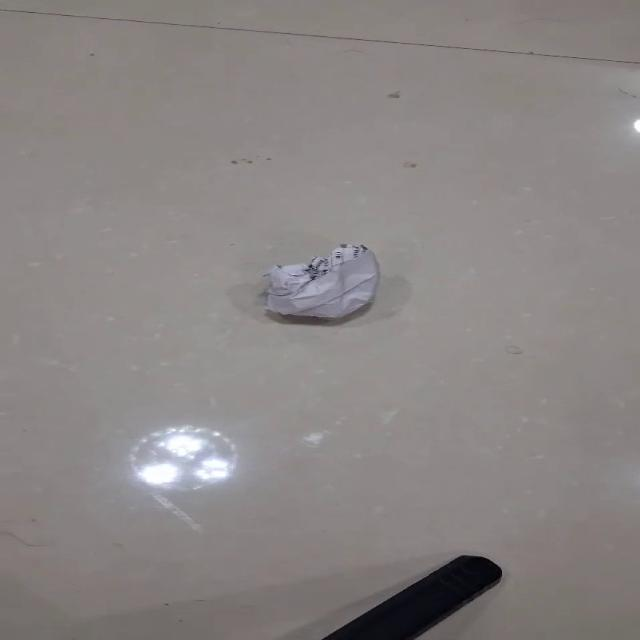paper: (261, 242, 380, 320)
